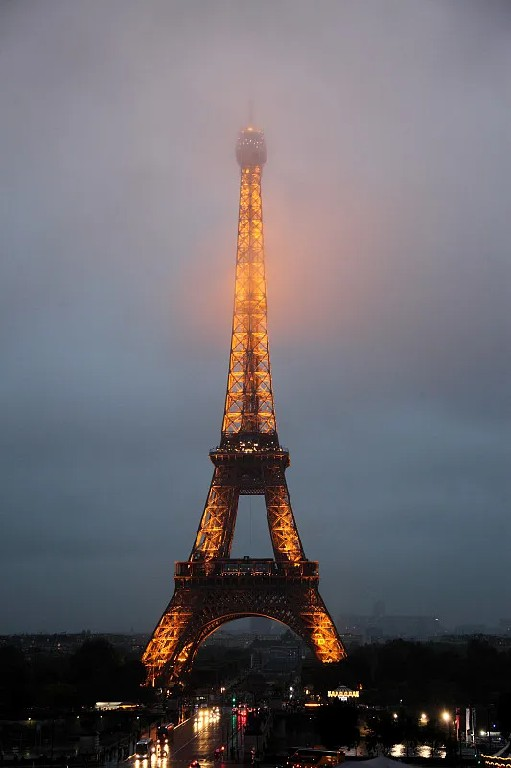Eiffel: (137, 82, 349, 685)
